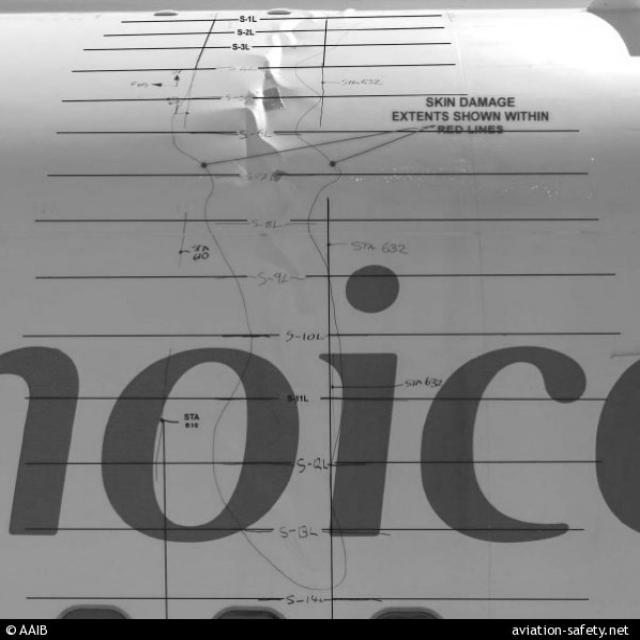dent: (248, 238, 322, 332), (205, 111, 285, 180), (257, 27, 315, 92)
